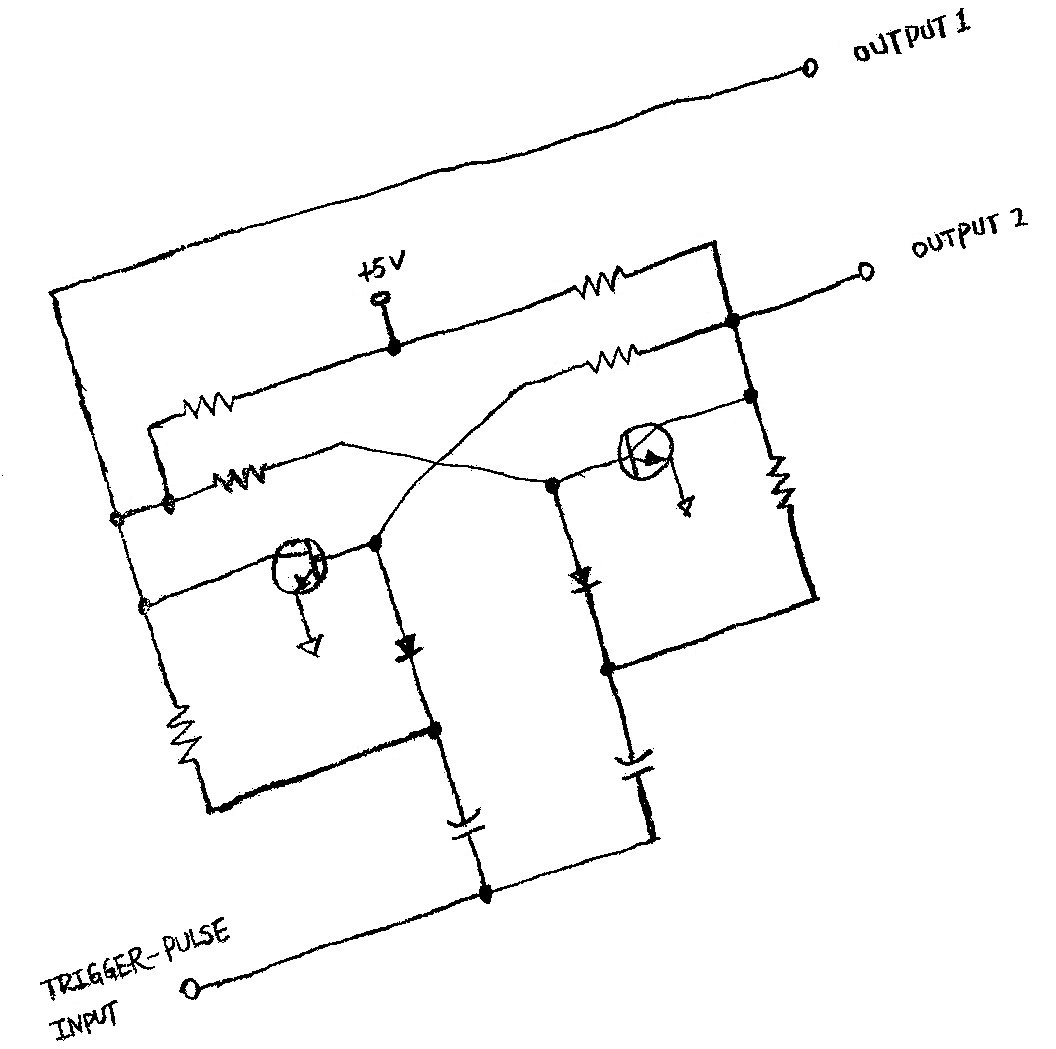capacitor.unpolarized: (608, 748, 667, 786), (441, 807, 498, 844)
crossover: (422, 449, 448, 480)
diode: (388, 628, 432, 667), (564, 562, 608, 598)
gnd: (291, 630, 331, 663), (669, 491, 702, 525)
junction: (715, 302, 752, 338), (637, 823, 673, 857), (738, 378, 771, 415), (418, 712, 451, 748), (128, 585, 158, 624), (153, 487, 188, 520), (359, 527, 392, 560), (801, 579, 830, 616), (194, 795, 226, 826), (471, 880, 506, 908), (594, 649, 621, 685), (378, 330, 407, 359), (104, 503, 135, 530), (42, 276, 67, 309), (540, 470, 568, 499), (508, 374, 539, 400), (326, 431, 351, 455), (703, 230, 726, 256), (141, 414, 158, 438)
resistor: (162, 701, 207, 766), (765, 451, 799, 515), (563, 266, 628, 297), (206, 464, 271, 493), (581, 344, 643, 374), (175, 392, 239, 419)
terminal: (174, 972, 204, 1005), (854, 257, 881, 285), (796, 53, 822, 82), (366, 289, 396, 309)
text: (40, 914, 233, 1001), (907, 204, 1031, 260), (848, 7, 972, 62), (44, 1000, 124, 1044), (354, 248, 409, 281)
transistor.bjt: (610, 419, 679, 483), (267, 532, 331, 599)
